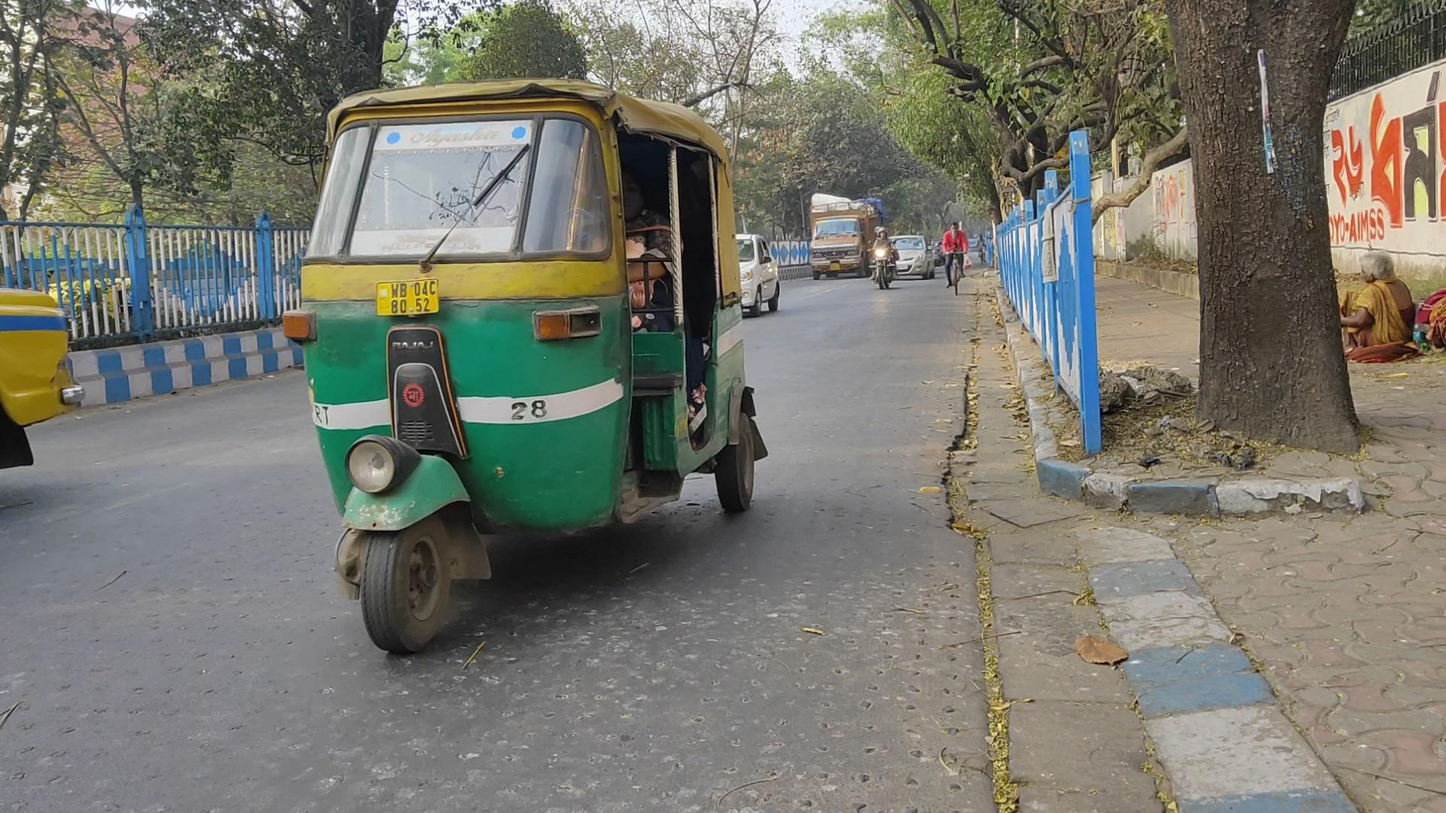Auto: (284, 77, 768, 654)
bike: (941, 220, 971, 296), (869, 224, 898, 291)
car: (735, 232, 781, 318), (889, 232, 932, 281)
truck: (810, 194, 882, 282)
